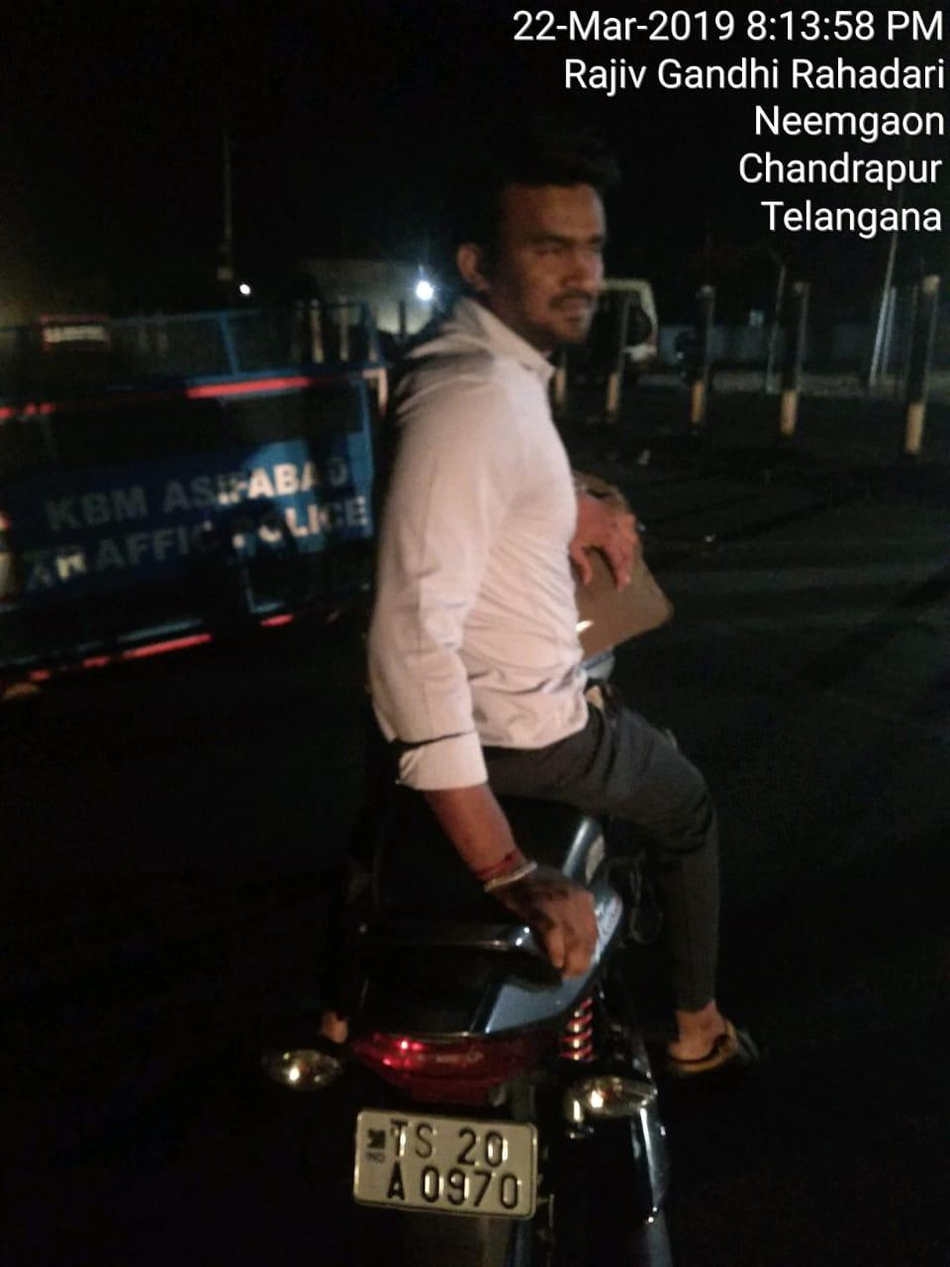plate: (338, 1092, 547, 1237)
